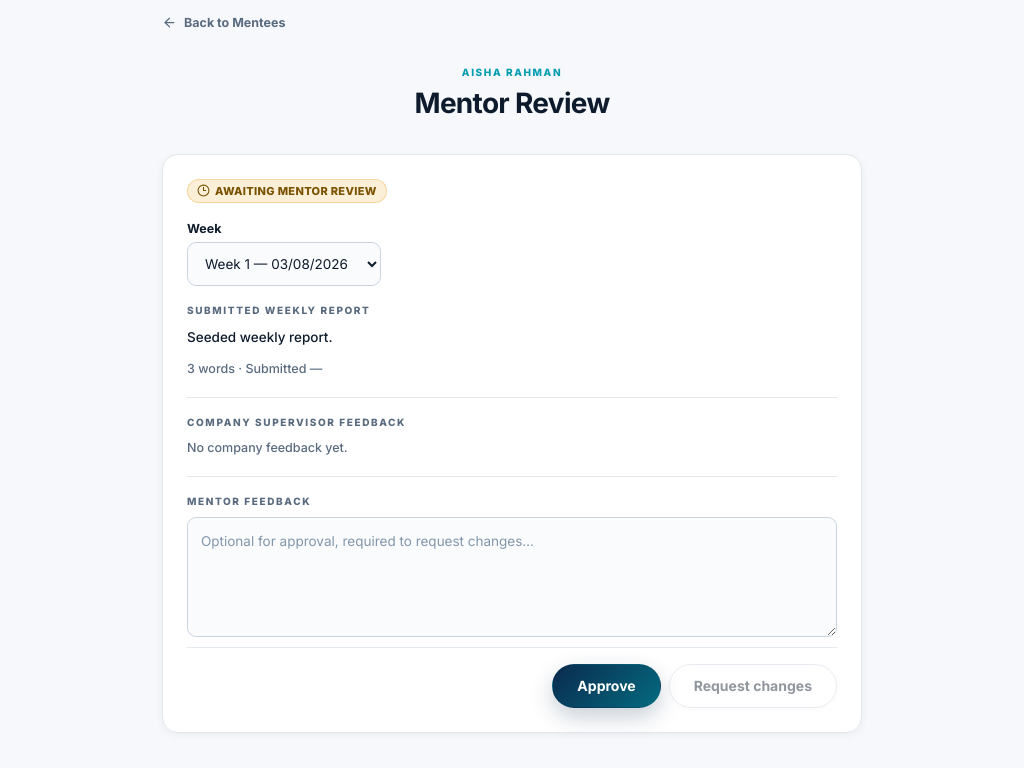
managed reviewer flows › mentor rejection restarts company review
Expected: the text "Seeded weekly report." is shown, [187,329,333,345]
Type "Connect to learning outcomes." into the text box named "Mentor feedback" at (512, 576), box [187,516,837,636]
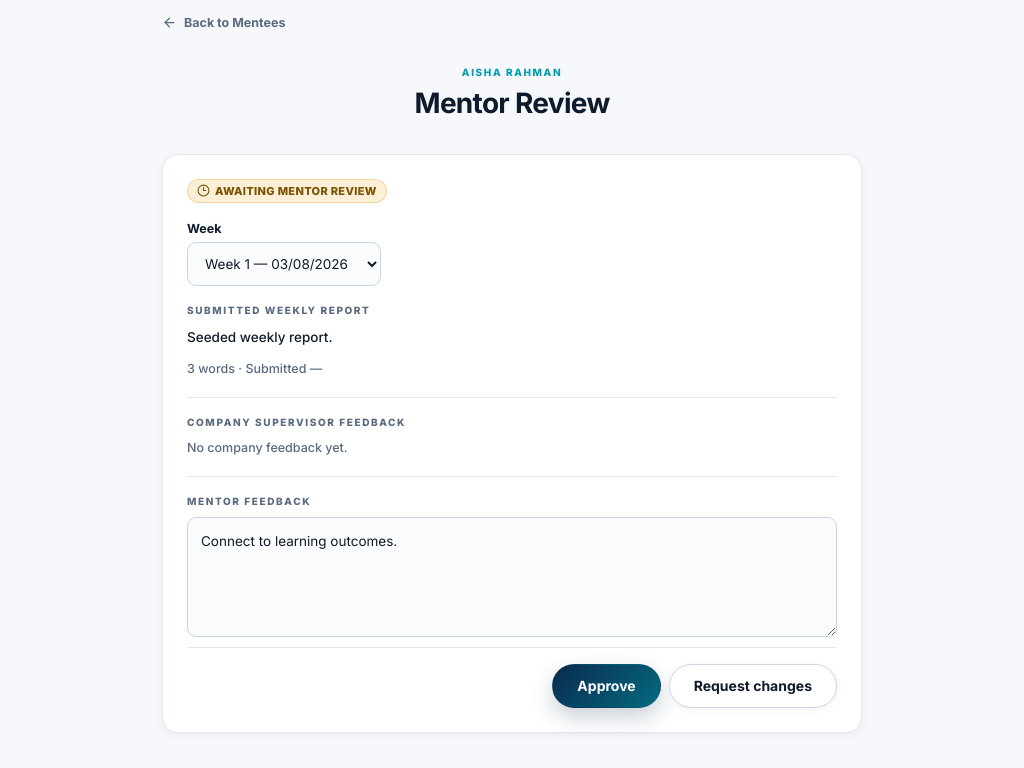
Click the button "Request changes" at (753, 686), box [669,664,837,708]
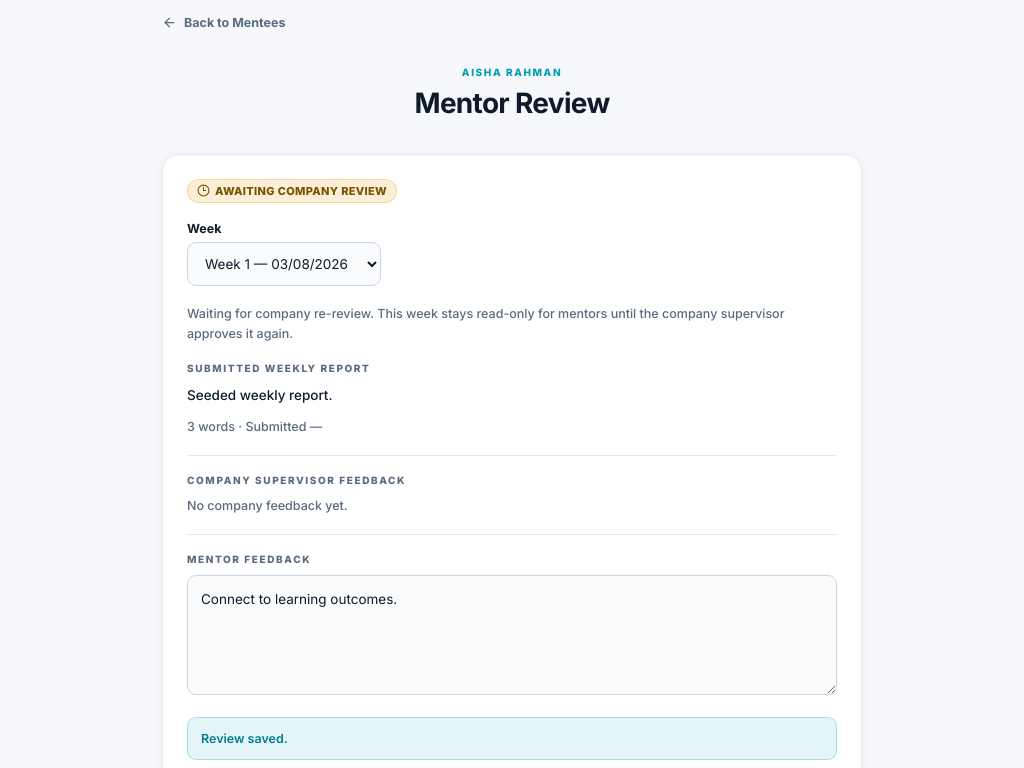
Now the text "Review saved." is shown, box [187,716,837,760]
